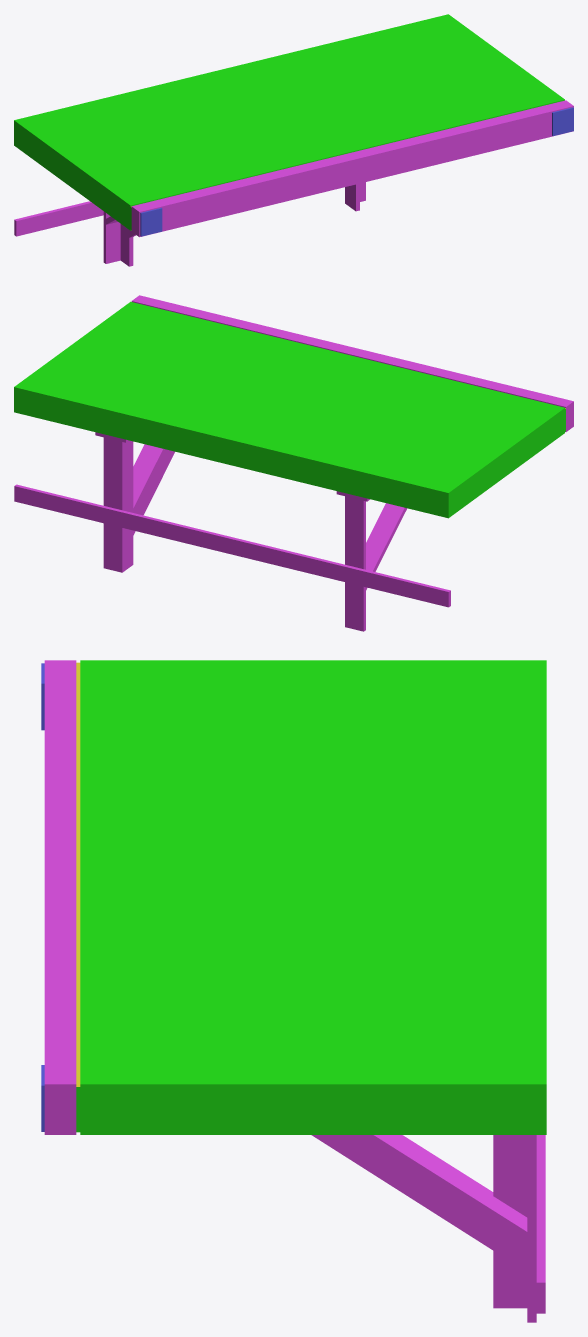
The model's file is Desk_10_Straight.fbx.
3 views of the same model, one above another, from view 1: azimuth 30°, elevation 25°; view 2: azimuth 150°, elevation 25°; view 3: azimuth 270°, elevation 25° (orthographic). The views are drawn at different scales.
Parts seen in each view (by area): view 1: Desk_10_Straight; view 2: Desk_10_Straight; view 3: Desk_10_Straight.
Part boxes in pixels (x1,y1,x2,y2): Desk_10_Straight: (14, 14, 573, 266); Desk_10_Straight: (14, 295, 573, 631); Desk_10_Straight: (41, 660, 546, 1322).
Bounding box in the file's own units: 183 × 65.02 × 92.05.
